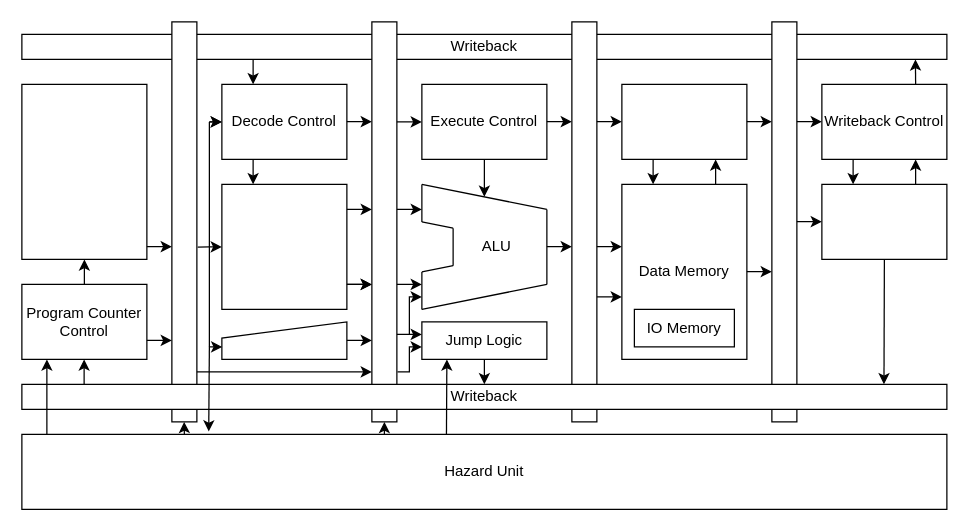
This 969x531 diagram has some shape labels left out. Here are the shapes that lost their labels. From the top down, the centre of each, then its label:
At [684,121]: "Memory Control".
At [84,171]: "Instruction Memory".
At [884,221]: "Writeback Unit".
At [284,246]: "Register File".
At [284,340]: "Extend".
